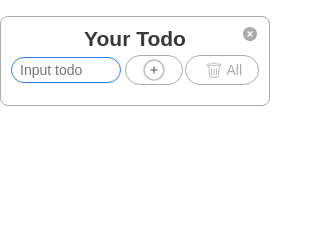
Test case: test CRUD TodoModal › test remove all todos
Type "todo1" into the field with placeholder "Input todo" at (66, 70), box [11,57,121,83]
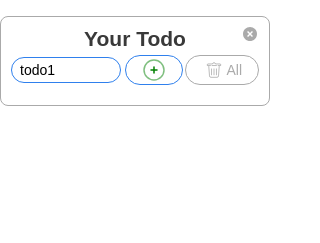
Click the 2nd button at (154, 70), box [125,55,183,85]
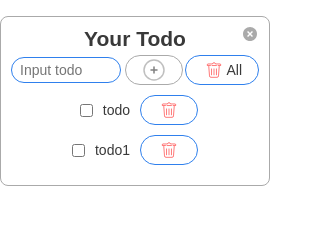
Type "todo2" into the field with placeholder "Input todo" at (66, 70), box [11,57,121,83]
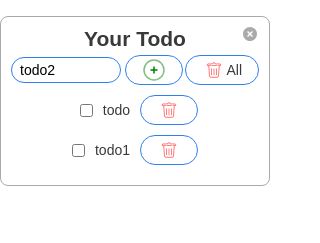
Click the 2nd button at (154, 70), box [125,55,183,85]
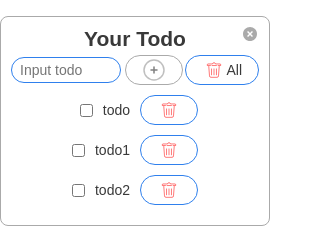
Click the button "All" at (222, 70), box [185,55,259,85]
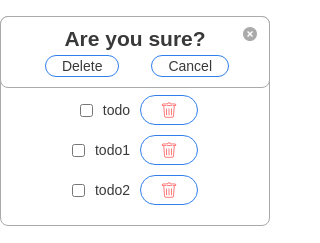
Click the button "Delete" at (82, 66), box [45,55,120,77]
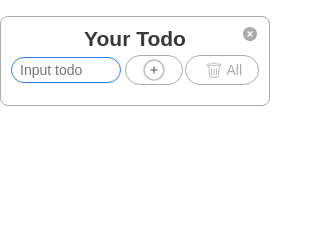
Result: the text "todo1" is gone
Result: the text "todo2" is gone
